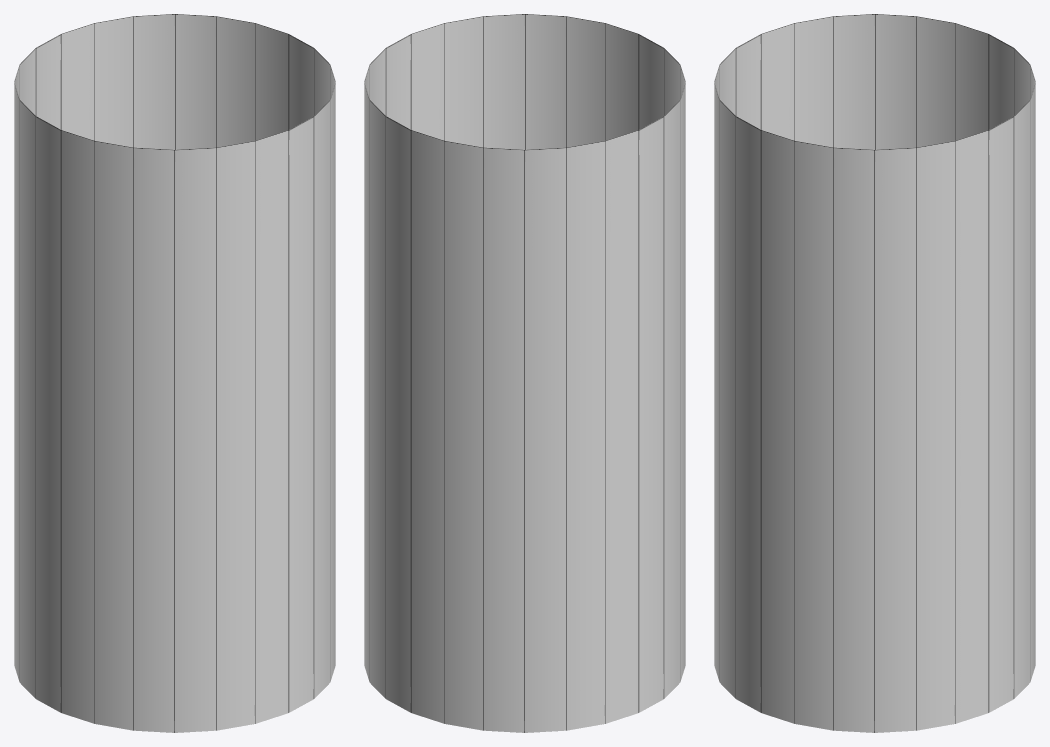
File: S1White4.obj
The picture shows the model from 3 angles, left to right: view 1: azimuth 30°, elevation 25°; view 2: azimuth 150°, elevation 25°; view 3: azimuth 270°, elevation 25°; orthographic projection.
Visible parts, largest first — view 1: S1White4; view 2: S1White4; view 3: S1White4.
Part boxes in pixels (x1,y1,x2,y2): S1White4: (14,14,335,732); S1White4: (364,14,685,732); S1White4: (714,14,1035,732).
Size of the model in its own units: 1.25 by 2.5 by 1.25.
1 material, 1 textured.
